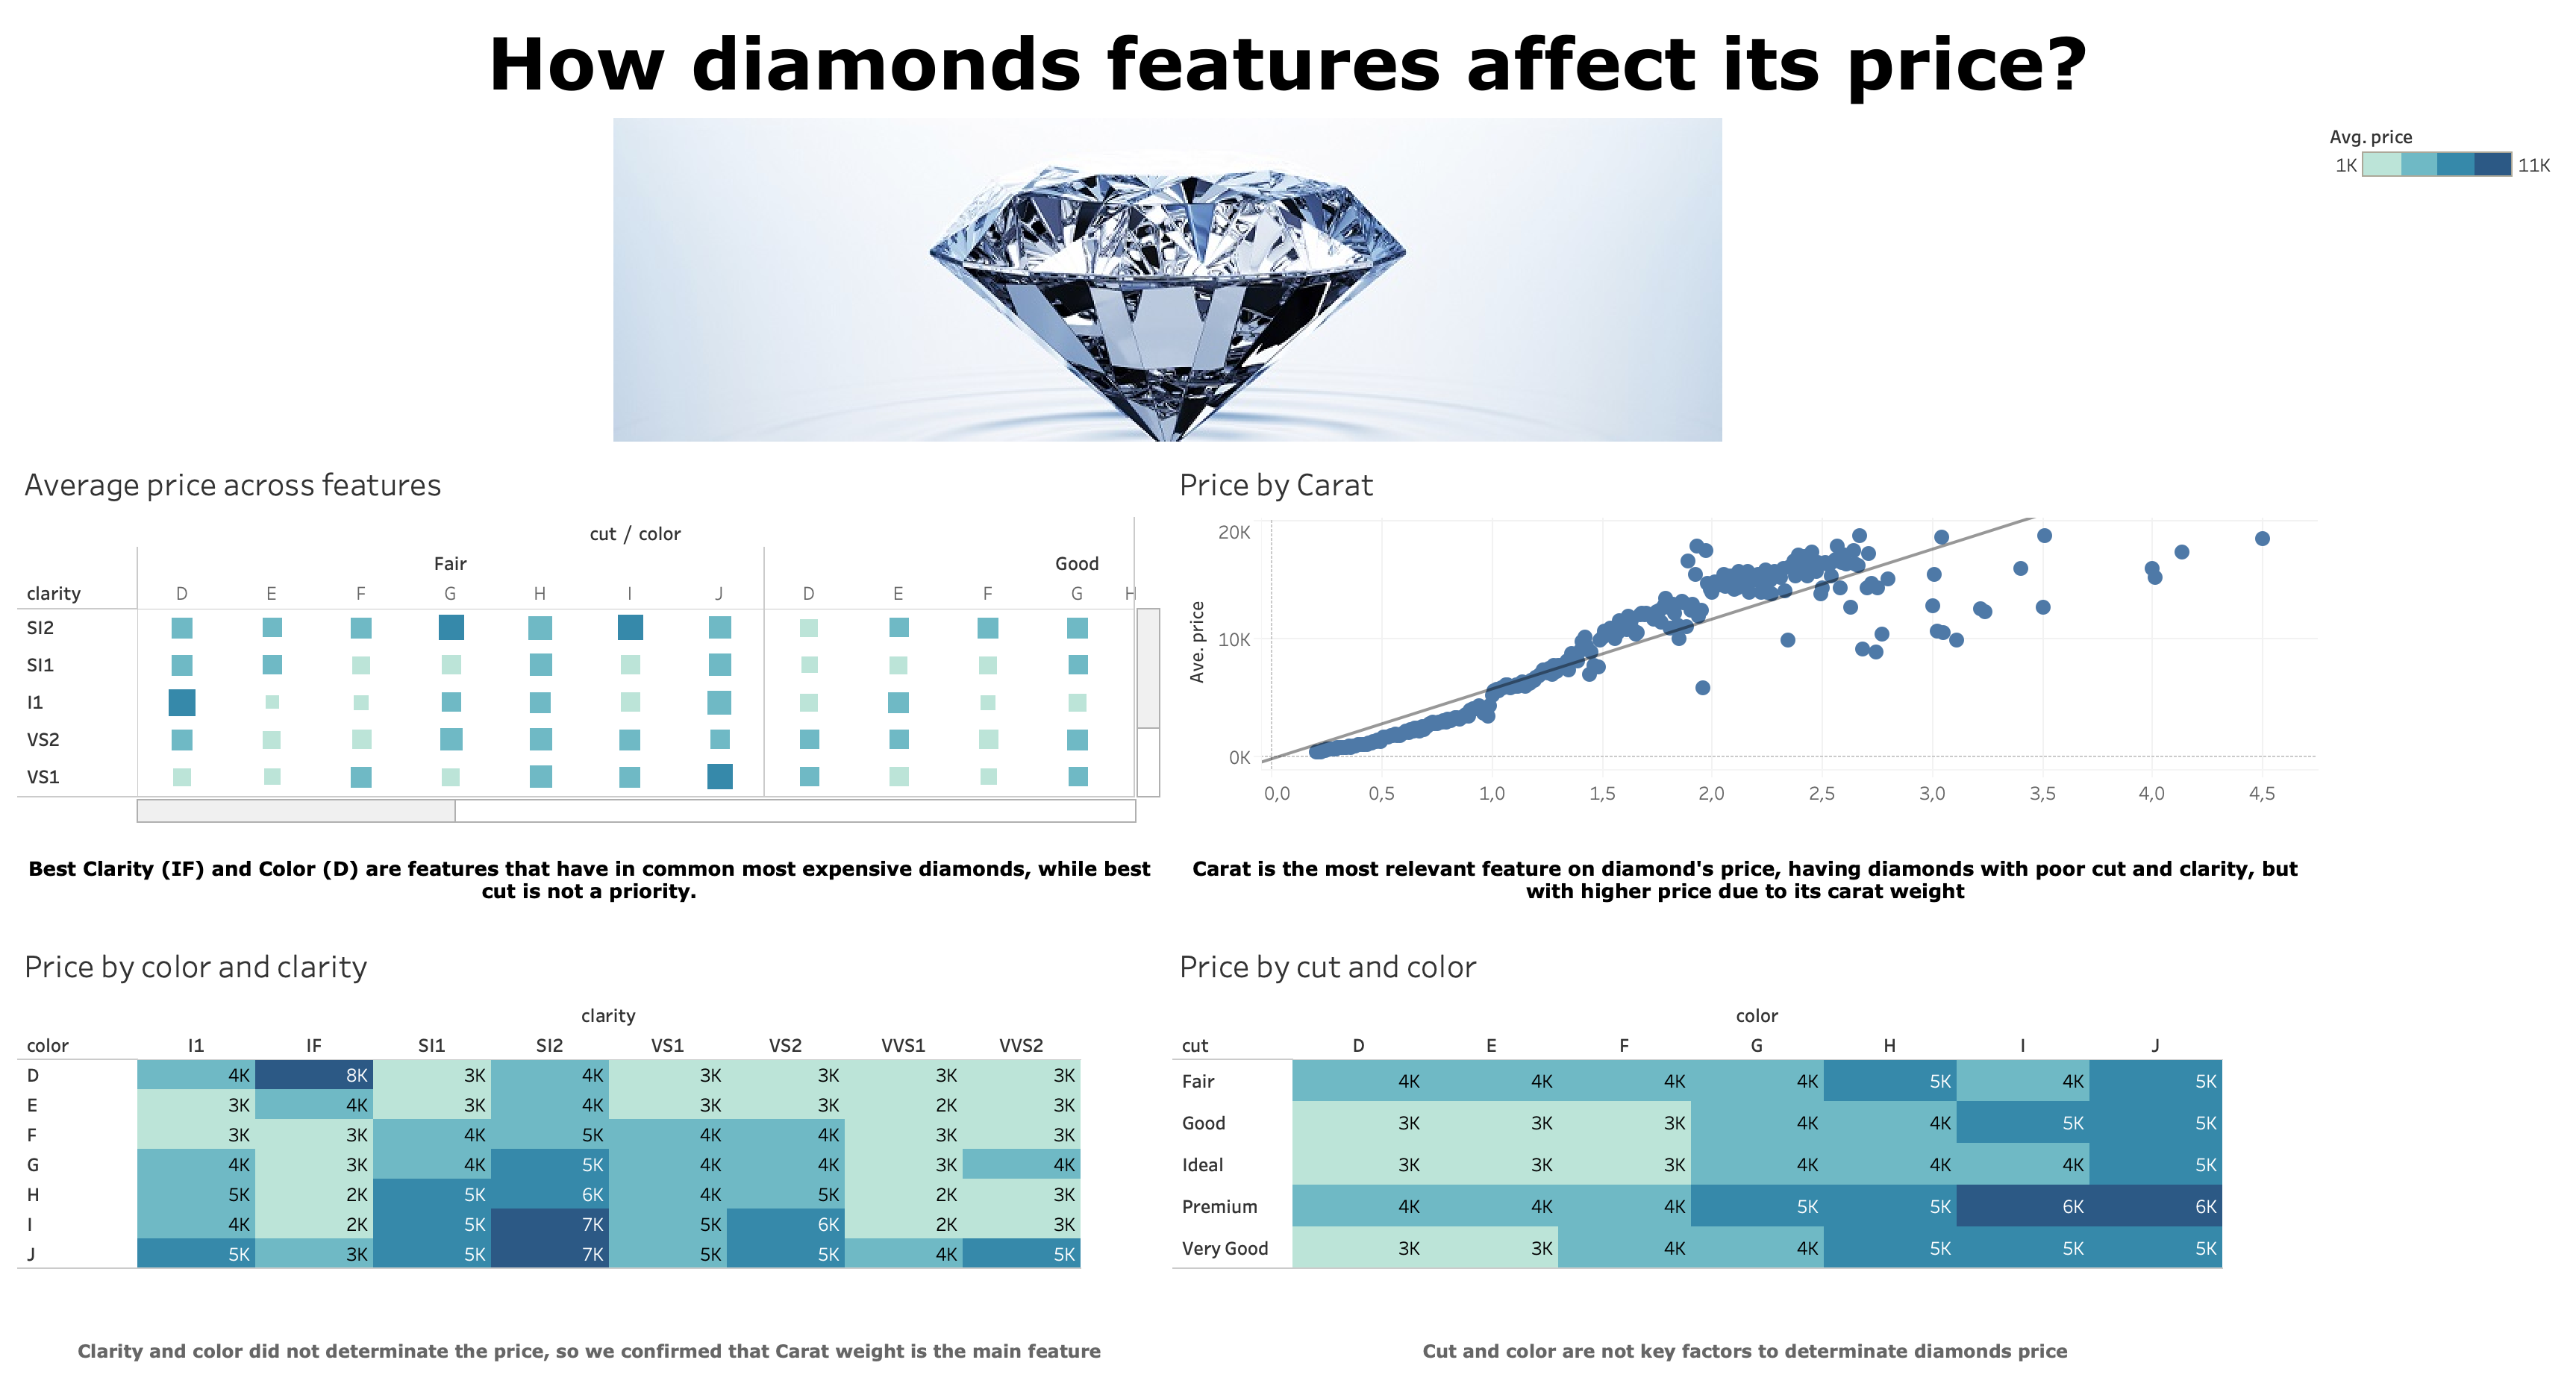

The page's visual inventory and layout, read from the dashboard file:
{"tool":"tableau","page":{"name":"How diamonds features affect in its price?","canvas":[1000,1000],"units":"permille","ordinal":2},"visuals":[{"type":"worksheet","box":[0,0,1000,1000]},{"type":"worksheet","param":"vert","box":[4.6,8.6,990.7,982.9]},{"type":"worksheet","box":[4.6,8.6,990.7,71.7]},{"type":"worksheet","param":"horz","box":[4.6,80.2,990.7,911.2]},{"type":"worksheet","param":"horz","box":[4.6,80.2,897.5,911.2]},{"type":"worksheet","param":"vert","box":[4.6,80.2,897.5,911.2]},{"type":"worksheet","param":"/Users/m.fernandezban/Desktop/diamond_on_the_water_2_12148_1.jpg","box":[4.6,80.2,897.5,240.7]},{"type":"worksheet","param":"vert","box":[902.1,80.2,93.3,911.2]},{"type":"worksheet","title":"Average price across features","mark":"Automatic","rows":["clarity"],"cols":["cut","color"],"param":"[federated.1grp9hl0le9tlj178w8vd0hd87vv].[avg:price:qk]","box":[902.1,80.2,93.3,74.9]},{"type":"worksheet","box":[4.6,320.9,897.5,670.6]},{"type":"worksheet","title":"Average price across features","mark":"Automatic","rows":["clarity"],"cols":["cut","color"],"box":[4.6,320.9,448.7,273.8]},{"type":"worksheet","title":"Price by Carat","mark":"Circle","rows":["price"],"cols":["carat"],"box":[453.3,320.9,448.8,273.8]},{"type":"worksheet","box":[4.6,594.6,448.7,71.7]},{"type":"worksheet","box":[453.3,594.6,448.8,71.7]},{"type":"worksheet","title":"Price by color and clarity","mark":"Square","rows":["color"],"cols":["clarity"],"box":[4.6,666.3,448.7,279.1]},{"type":"worksheet","title":"Price by cut and color","mark":"Square","rows":["cut"],"cols":["color"],"box":[453.3,666.3,448.8,279.1]},{"type":"worksheet","box":[4.6,945.4,448.7,46]},{"type":"worksheet","box":[453.3,945.4,448.8,46]}]}

Visuals, with their boxes on the dashboard's canvas, which has no fixed pixel size, in thousandths of its width and height (x1, y1, x2, y2). These are canvas units, not pixel positions in the 2576x1395 screenshot, which may show the page scaled, cropped or inside an application window:
worksheet: {"left": 0, "top": 0, "right": 1000, "bottom": 1000}
worksheet: {"left": 5, "top": 9, "right": 995, "bottom": 992}
worksheet: {"left": 5, "top": 9, "right": 995, "bottom": 80}
worksheet: {"left": 5, "top": 80, "right": 995, "bottom": 991}
worksheet: {"left": 5, "top": 80, "right": 902, "bottom": 991}
worksheet: {"left": 5, "top": 80, "right": 902, "bottom": 991}
worksheet: {"left": 5, "top": 80, "right": 902, "bottom": 321}
worksheet: {"left": 902, "top": 80, "right": 995, "bottom": 991}
"Average price across features" worksheet: {"left": 902, "top": 80, "right": 995, "bottom": 155}
worksheet: {"left": 5, "top": 321, "right": 902, "bottom": 992}
"Average price across features" worksheet: {"left": 5, "top": 321, "right": 453, "bottom": 595}
"Price by Carat" worksheet (Circle marks): {"left": 453, "top": 321, "right": 902, "bottom": 595}
worksheet: {"left": 5, "top": 595, "right": 453, "bottom": 666}
worksheet: {"left": 453, "top": 595, "right": 902, "bottom": 666}
"Price by color and clarity" worksheet (Square marks): {"left": 5, "top": 666, "right": 453, "bottom": 945}
"Price by cut and color" worksheet (Square marks): {"left": 453, "top": 666, "right": 902, "bottom": 945}
worksheet: {"left": 5, "top": 945, "right": 453, "bottom": 991}
worksheet: {"left": 453, "top": 945, "right": 902, "bottom": 991}
